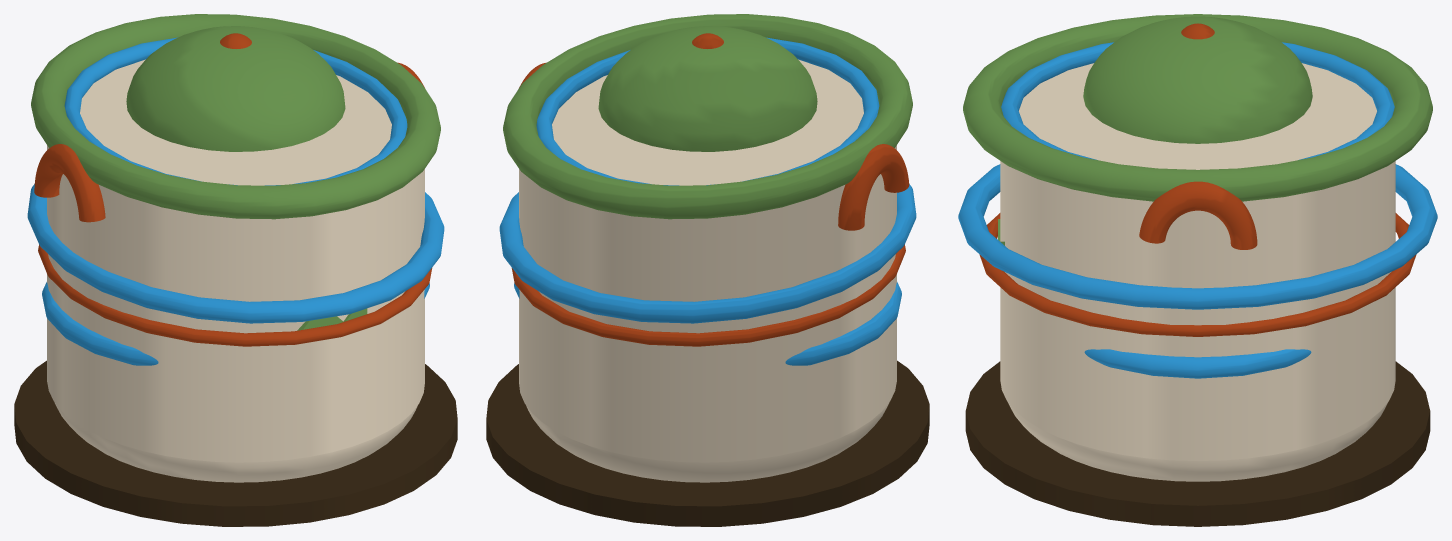
Rendered from 0727_钱币图鉴_大明通行宝钞.glb.
3 views of the same model, side by side, from view 1: azimuth 30°, elevation 25°; view 2: azimuth 150°, elevation 25°; view 3: azimuth 270°, elevation 25° (orthographic). The views are drawn at different scales.
Parts seen in each view (by area): view 1: card_0727; view 2: card_0727; view 3: card_0727.
Boxes of the visible parts, x1=… form: card_0727: x1=14, y1=14, x2=457, y2=526; card_0727: x1=486, y1=14, x2=929, y2=526; card_0727: x1=958, y1=14, x2=1437, y2=526.
Size of the model in its own units: 0.9648 by 1 by 1.03.
